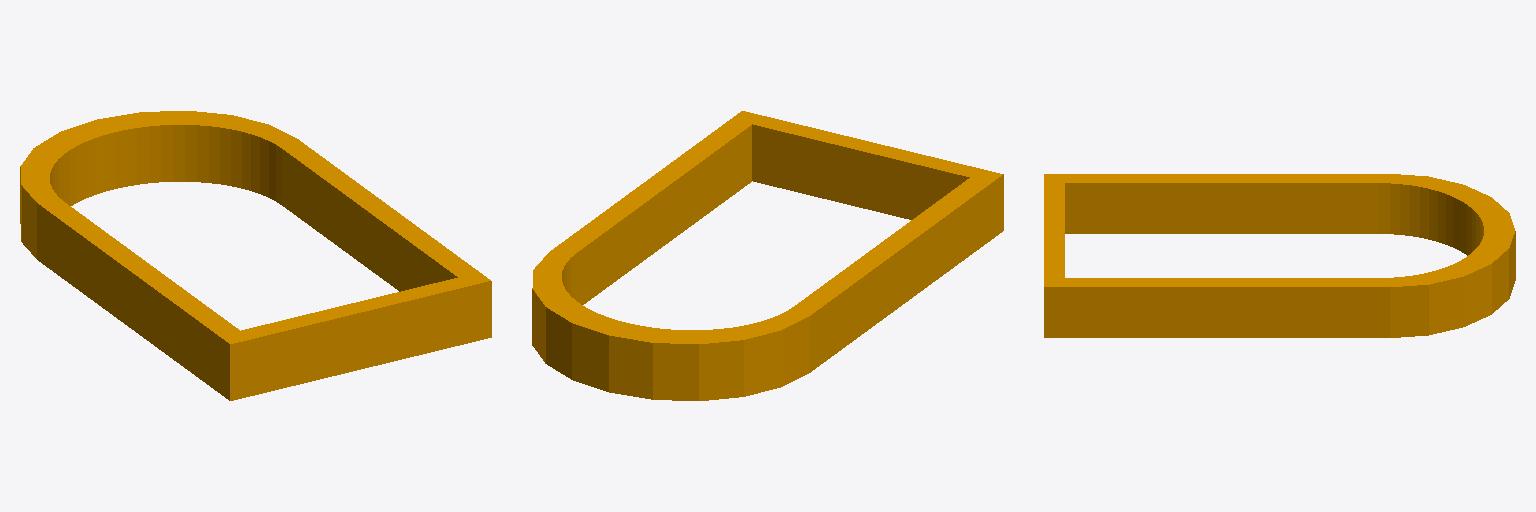
The robot description file, URDF, robot "edges":
<?xml version="0.0" ?>
<robot name="edges">
  <link name="body">
    <visual>
      <geometry>
        <mesh filename="obj/edges.obj" scale=".1 .1 .1"/>
      </geometry>
      <origin rpy="0 0 0" xyz="0 0 0"/>
    </visual>
    <collision>
      <geometry>
        <mesh filename="obj/thick_edges_vhacd.obj" scale=".1 .1 .1"/>
      </geometry>
      <origin rpy="0 0 0" xyz="0 0 0"/>
    </collision>
    <inertial>
      <mass value="1"/>
      <inertia ixx="1" ixy="0" ixz="0" iyy="1" iyz="0" izz="1"/>
      <origin rpy="0 0 0" xyz="0 0 0"/>
    </inertial>
  </link>

</robot>

--- What the picture shows (computed from the rendered views, not written in the file) ---
Views: 3 orthographic renders of the robot side by side, from view 1: azimuth 30°, elevation 25°; view 2: azimuth 150°, elevation 25°; view 3: azimuth 270°, elevation 25°.
Model edges with 1 links and 0 joints (none), rooted at body, posed all joints at 0.
Visible links, largest first — view 1: body; view 2: body; view 3: body.
Link boxes in pixels (left/top/right/bottom): body: left=20, top=111, right=491, bottom=400; body: left=532, top=111, right=1003, bottom=400; body: left=1044, top=174, right=1515, bottom=337.
Bounding box of the posed robot: 2.4 × 4.2 × 0.5 m (x, y, z).
1 mesh visuals loaded from 1 distinct referenced files (1 OBJ).